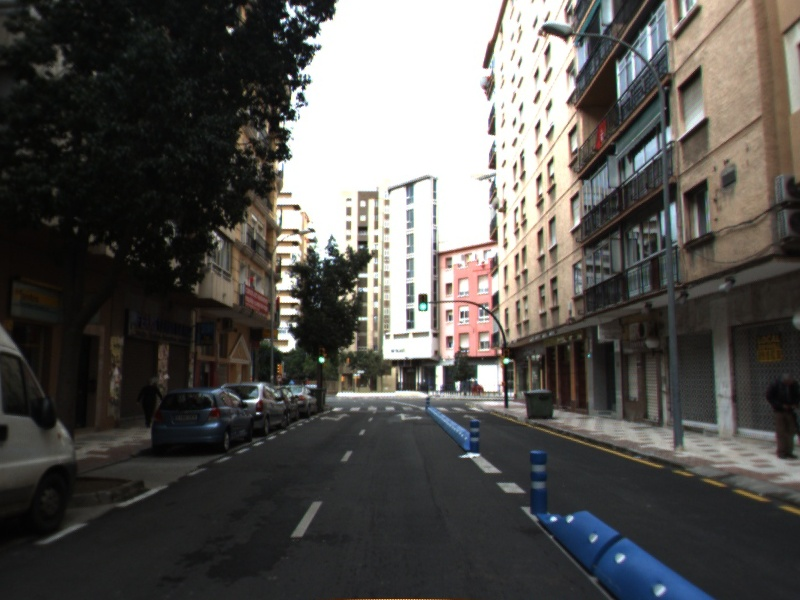STRAIGHT_LEFT: (319, 412, 352, 422)
STRAIGHT_RIGHT: (394, 411, 424, 422)
